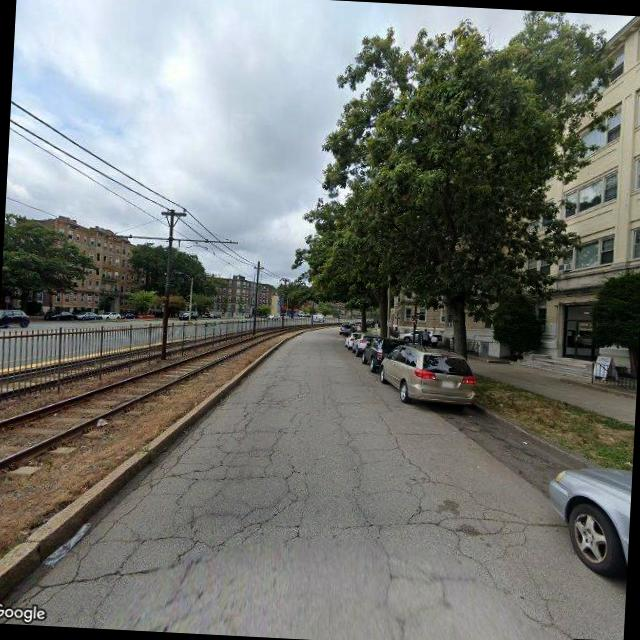crack: (49, 376, 584, 636)
